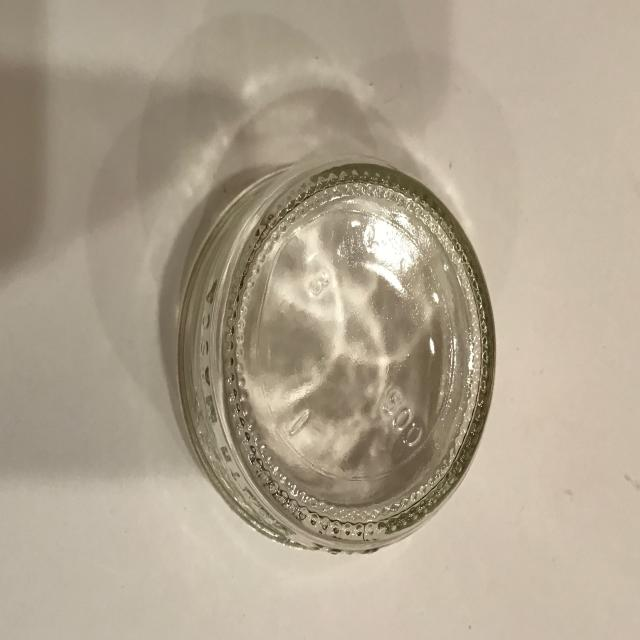glass: (176, 156, 497, 554)
